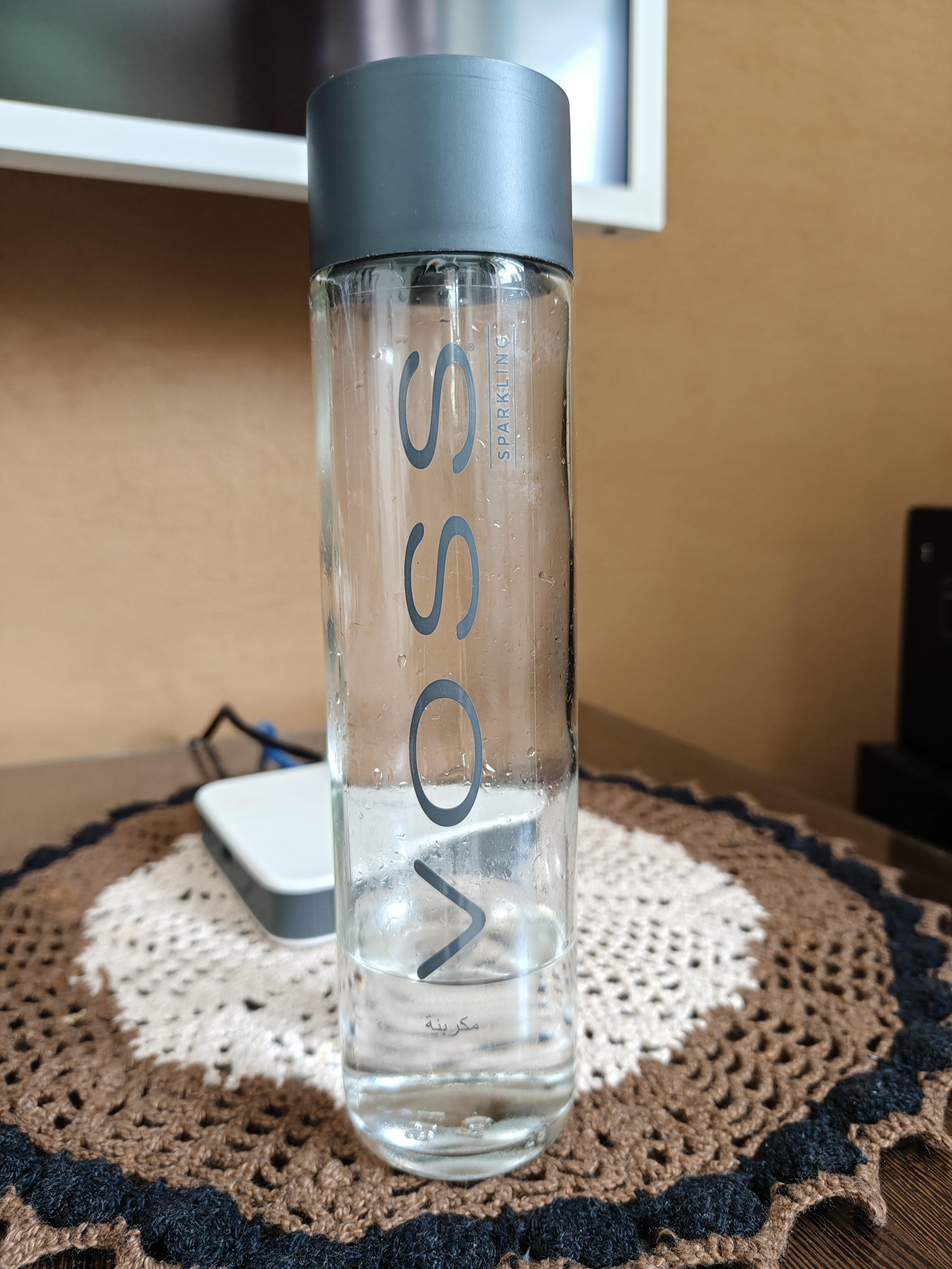bottle: (306, 55, 579, 1182)
